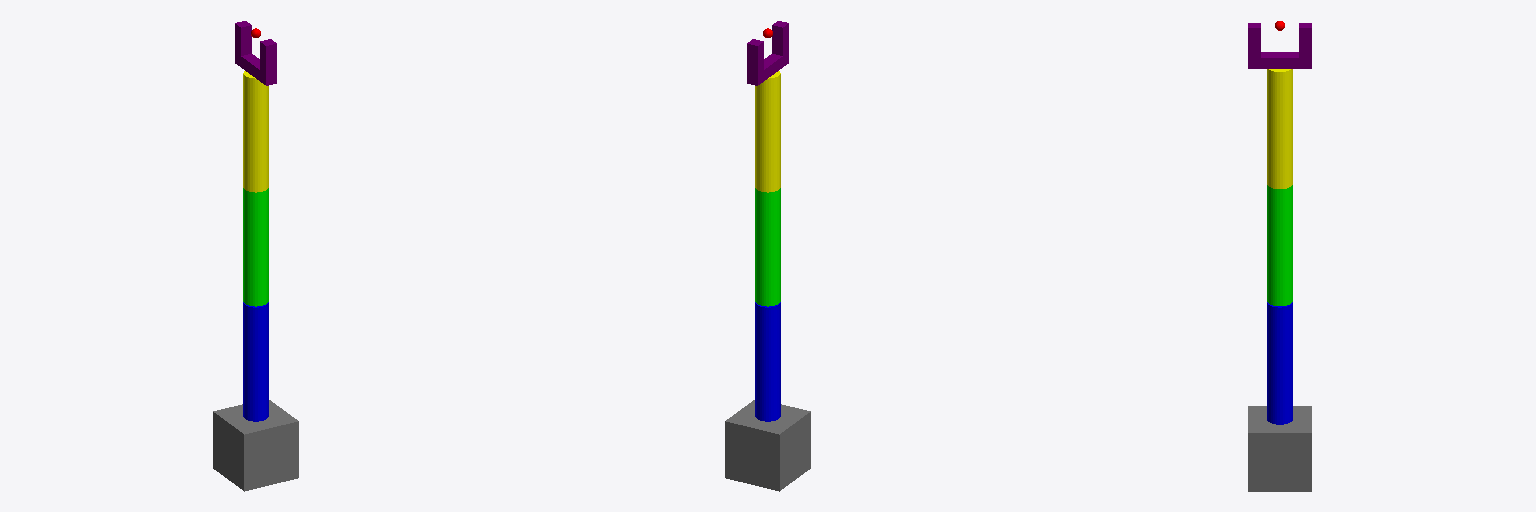
robot.urdf — prrr_manipulator:
<?xml version="1.0"?>
<robot name="prrr_manipulator">

  <!-- Base Link -->
  <link name="base_link">
    <visual>
      <origin xyz="0 0 0" rpy="0 0 0"/>
      <geometry>
        <box size="0.25 0.25 0.25"/>
      </geometry>
      <material name="gray">
        <color rgba="0.5 0.5 0.5 1"/>
      </material>
    </visual>
  </link>

  <!-- Joint -->
  <joint name="revolute1" type="revolute">
    <parent link="base_link"/>
    <child link="link2"/>
    <origin xyz="0 0 0.125" rpy="0 0 0"/>
    <axis xyz="1 0 0"/>
    <limit lower="-3.14" upper="3.14" effort="10" velocity="1"/>
  </joint>

  <!-- Link 2 -->
  <link name="link2">
    <visual>
      <origin xyz="0 0 0.25" rpy="0 0 0"/>
      <geometry>
        <cylinder length="0.5" radius="0.05"/>
      </geometry>
      <material name="blue">
        <color rgba="0 0 1 1"/>
      </material>
    </visual>
    <!-- <collision>
      <origin xyz="0 0 0.25" rpy="0 0 0"/>
      <geometry>
        <cylinder length="0.5" radius="0.05"/>
      </geometry>
    </collision> -->
  </link>

  <!-- Joint -->
  <joint name="prismatic1" type="prismatic">
    <parent link="link2"/>
    <child link="prismatic_link"/>
    <origin xyz="0 0 0.005" rpy="0 0 0"/> <!-- There was a collision issue so I had to space this a bit off the previous link -->
    <axis xyz="0 0 1"/>
    <limit lower="-0.5" upper="0.5" effort="10" velocity="1"/>
  </joint>

  <!-- Link 1 -->
  <link name="prismatic_link">
  </link>  

  <!-- Joint -->
  <joint name="revolute2" type="revolute">
    <parent link="prismatic_link"/>
    <child link="link3"/>
    <origin xyz="0 0 0.5" rpy="0 0 0"/>
    <axis xyz="1 0 0"/>
    <limit lower="-3.14" upper="3.14" effort="10" velocity="1"/>
  </joint>

  <!-- Link 2 -->
  <link name="link3">
    <visual>
      <origin xyz="0 0 0.25" rpy="0 0 0"/>
      <geometry>
        <cylinder length="0.5" radius="0.05"/>
      </geometry>
      <material name="green">
        <color rgba="0 1 0 1"/>
      </material>
    </visual>
    <!-- <collision>
      <origin xyz="0 0 0.25" rpy="0 0 0"/>
      <geometry>
        <cylinder length="0.5" radius="0.05"/>
      </geometry>
    </collision> -->
  </link>

  <!-- Joint -->
  <joint name="revolute3" type="revolute">
    <parent link="link3"/>
    <child link="link4"/>
    <origin xyz="0 0 0.5" rpy="0 0 0"/>
    <axis xyz="1 0 0"/>
    <limit lower="-3.14" upper="3.14" effort="10" velocity="1"/>
  </joint>

  <!-- Link 3 -->
  <link name="link4">
    <visual>
      <origin xyz="0 0 0.25" rpy="0 0 0"/>
      <geometry>
        <cylinder length="0.5" radius="0.05"/>
      </geometry>
      <material name="yellow">
        <color rgba="1 1 0 1"/>
      </material>
    </visual>
    <collision>
      <origin xyz="0 0 0.25" rpy="0 0 0"/>
      <geometry>
        <cylinder length="0.5" radius="0.05"/>
      </geometry>
    </collision>
  </link>

  <!-- Joint -->
  <joint name="fixed1" type="fixed">
    <parent link="link4"/>
    <child link="wrist"/>
    <origin xyz="0 0 0.525" rpy="0 0 0"/>
    <axis xyz="0 0 1"/>
    <limit lower="-3.14" upper="3.14" effort="10" velocity="1"/>
  </joint>

  <!-- Wrist Link -->
  <link name="wrist">
    <visual>
      <origin xyz="0 0 0" rpy="0 0 0"/>
      <geometry>
        <box size="0.05 0.25 0.05"/>
      </geometry>
      <material name="purple">
        <color rgba="0.5 0 0.5 1"/>
      </material>
    </visual>
    <collision>
      <origin xyz="0 0 0" rpy="0 0 0"/>
      <geometry>
        <box size="0.05 0.25 0.05"/>
      </geometry>
    </collision>
  </link>

  <!-- Joint -->
  <joint name="fixed2" type="fixed">
    <parent link="wrist"/>
    <child link="left_finger"/>
    <origin xyz="0 -0.1 0.075" rpy="0 0 0"/>
  </joint>

  <!-- Left Finger Link -->
  <link name="left_finger">
    <visual>
      <origin xyz="0 0 0" rpy="0 0 0"/>
      <geometry>
        <box size="0.05 0.05 0.15"/>
      </geometry>
      <material name="purple">
        <color rgba="0.5 0 0.5 1"/>
      </material>
    </visual>
    <collision>
      <origin xyz="0 0 0" rpy="0 0 0"/>
      <geometry>
        <box size="0.05 0.05 0.15"/>
      </geometry>
    </collision>
  </link>

  <!-- Joint -->
  <joint name="fixed3" type="fixed">
    <parent link="wrist"/>
    <child link="right_finger"/>
    <origin xyz="0 0.1 0.075" rpy="0 0 0"/>
  </joint>

  <!-- Right Finger Link -->
  <link name="right_finger">
    <visual>
      <origin xyz="0 0 0" rpy="0 0 0"/>
      <geometry>
        <box size="0.05 0.05 0.15"/>
      </geometry>
      <material name="purple">
        <color rgba="0.5 0 0.5 1"/>
      </material>
    </visual>
    <collision>
      <origin xyz="0 0 0" rpy="0 0 0"/>
      <geometry>
        <box size="0.05 0.05 0.15"/>
      </geometry>
    </collision>
  </link>

  <!-- Center of gripper -->
  <link name="gripper_center">
    <visual>
      <origin xyz="0 0 0.0" rpy="0 0 0"/>
      <geometry>
        <sphere radius="0.02"/> 
      </geometry>
      <material name="red">
        <color rgba="1 0 0 1"/>
      </material>
    </visual>
  </link>

  <!-- Joint -->
  <joint name="fixed4" type="fixed">
    <parent link="wrist"/>
    <child link="gripper_center"/>
    <origin xyz="0 0 0.15" rpy="0 0 0"/>
  </joint>  

</robot>

--- Render facts (derived) ---
3 views of the same robot in one strip: view 1: azimuth 30°, elevation 25°; view 2: azimuth 150°, elevation 25°; view 3: azimuth 270°, elevation 25° (orthographic).
Robot: prrr_manipulator — 9 links, 8 joints (3 revolute, 1 prismatic, 4 fixed); root link base_link; default pose: every joint at zero.
Links seen in each view (by area): view 1: base_link, link2, link3, link4, left_finger, wrist, right_finger; view 2: base_link, link2, link3, link4, right_finger, wrist, left_finger; view 3: base_link, link4, link2, link3, wrist.
Boxes of the visible links, x1,y1,x2,y2 form: base_link: (213, 400, 298, 491); link2: (243, 302, 268, 421); link3: (243, 188, 268, 306); link4: (243, 71, 268, 192); left_finger: (260, 39, 276, 79); wrist: (235, 53, 276, 85); right_finger: (235, 21, 251, 56); base_link: (725, 400, 810, 491); link2: (755, 302, 780, 421); link3: (755, 188, 780, 306); link4: (755, 71, 780, 192); right_finger: (747, 39, 763, 79); wrist: (747, 52, 788, 85); left_finger: (772, 21, 788, 55); base_link: (1248, 406, 1311, 491); link4: (1267, 69, 1292, 188); link2: (1267, 302, 1292, 424); link3: (1267, 185, 1292, 305); wrist: (1248, 52, 1311, 68).
Bounding box of the posed robot: 0.25 × 0.25 × 1.95 m (x, y, z).
Geometry: primitives only (box / cylinder / sphere), no mesh files.